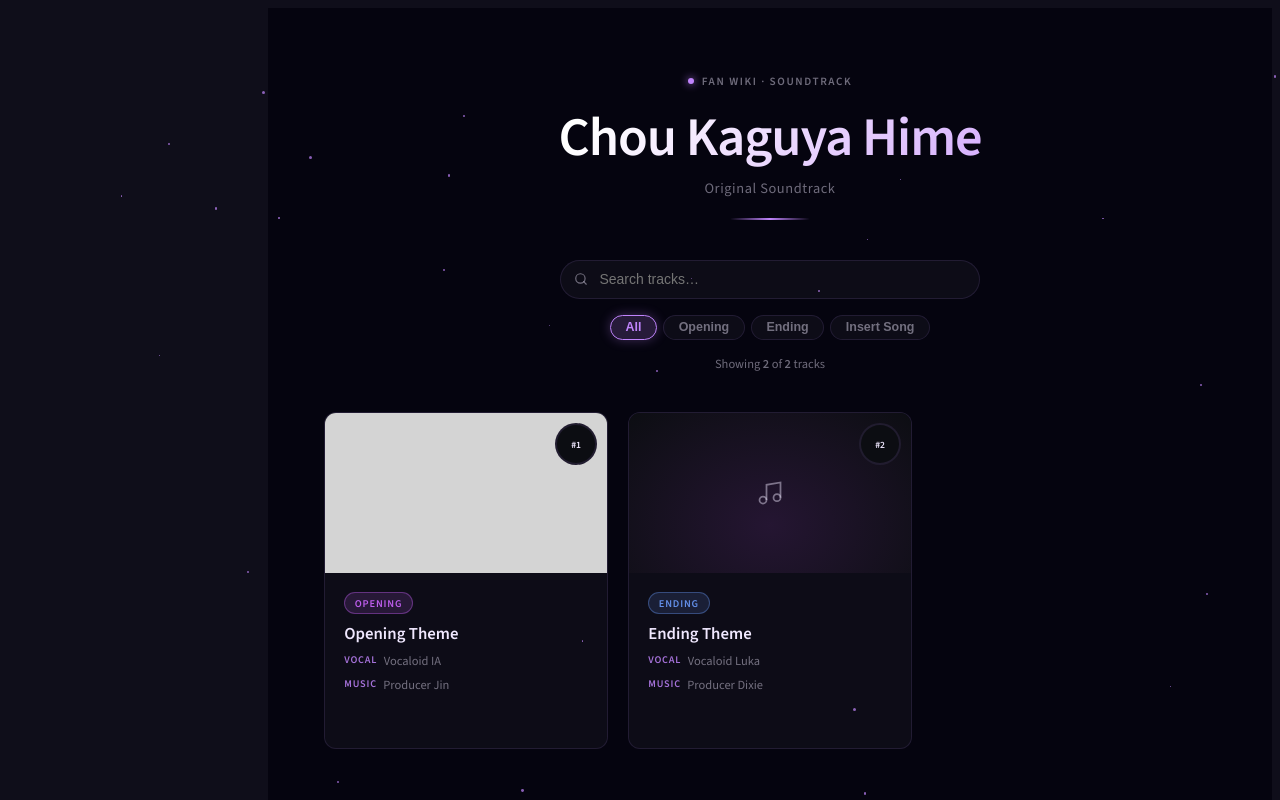
Test: SoundtracksPage › renders track count info correctly
Expected: the text "Showing 2 of 2 tracks" is shown, x1=715 y1=356 x2=825 y2=372
Note: Filter to 1 track
Type "Opening" into the field with placeholder "Search tracks…" at (770, 279), box x1=560 y1=260 x2=980 y2=299
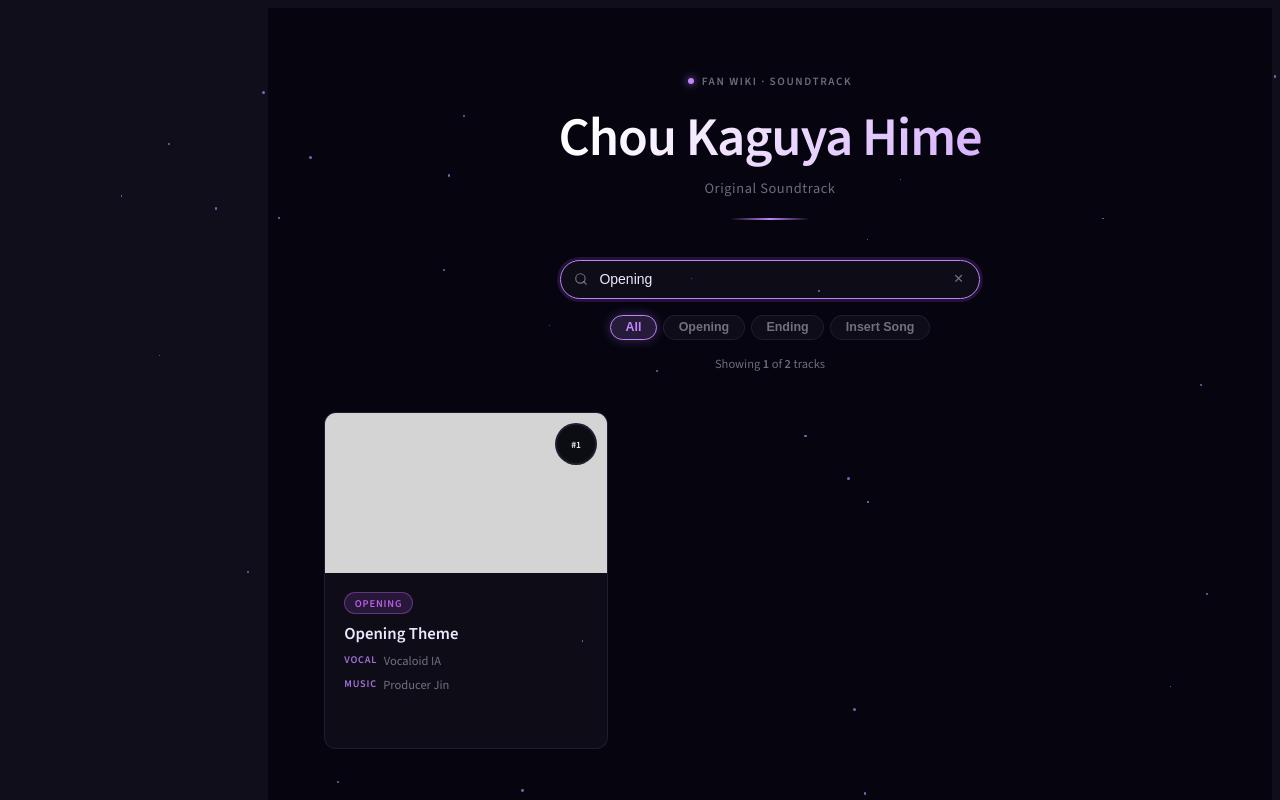
Now the text "Showing 1 of 2 tracks" is shown, box x1=715 y1=356 x2=825 y2=372
